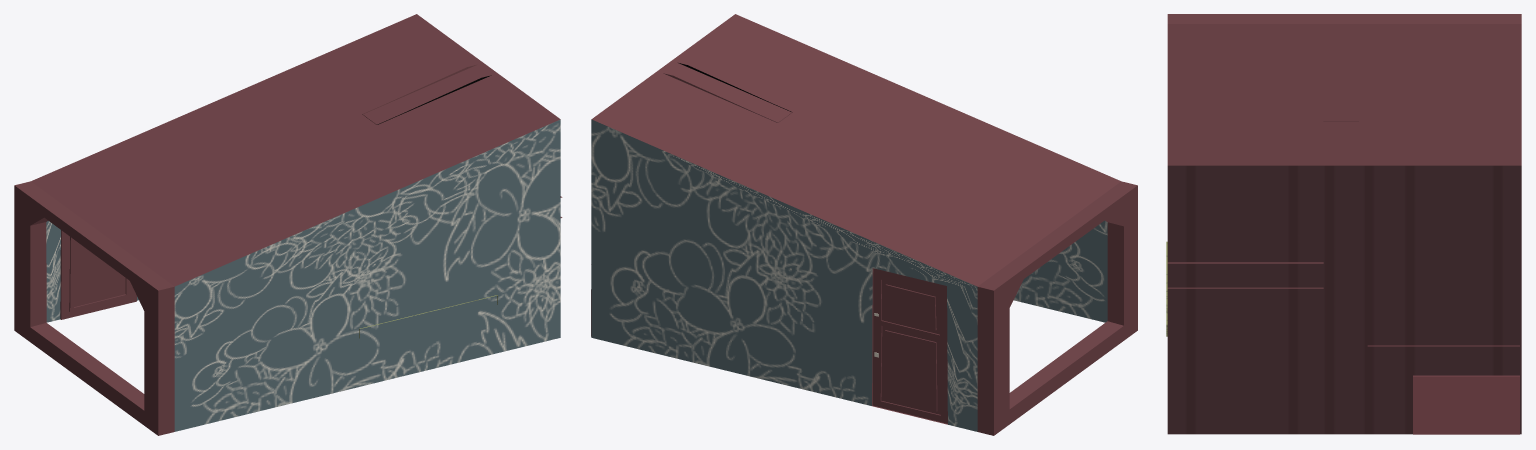
File: Bedroom.fbx
The picture shows the model from 3 angles, left to right: view 1: azimuth 30°, elevation 25°; view 2: azimuth 150°, elevation 25°; view 3: azimuth 270°, elevation 25°; orthographic projection. The views are drawn at different scales.
Parts seen in each view (by area): view 1: Cube.007; view 2: Cube.007; view 3: Cube.007.
Part boxes in pixels (x1,y1,x2,y2): Cube.007: (14,14,562,435); Cube.007: (591,14,1137,435); Cube.007: (1167,14,1521,434).
Bounding box in the file's own units: 1951 × 1028 × 1207.
4 materials, 4 textured.
